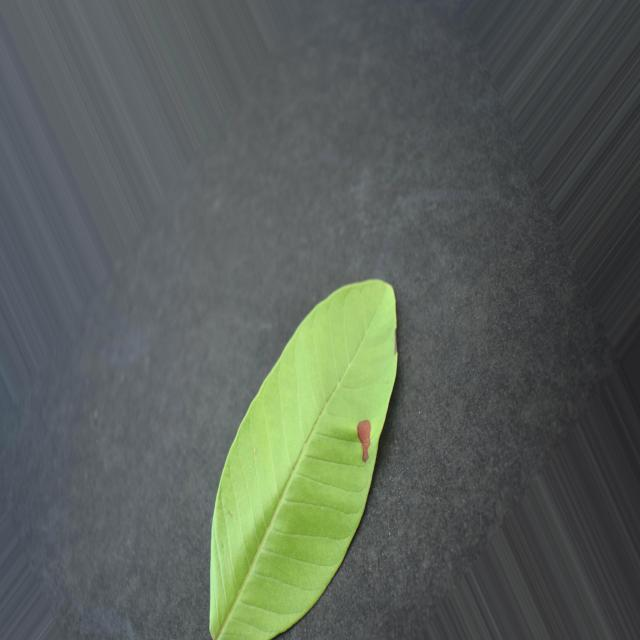Dot: (210, 279, 398, 639)
